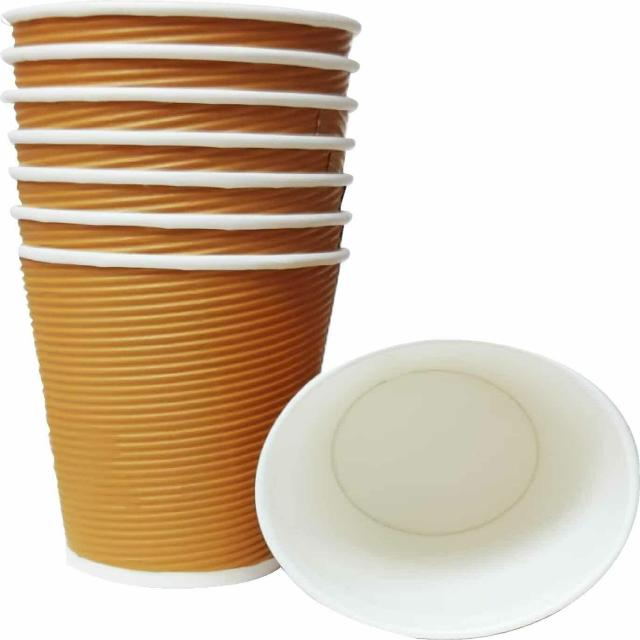PaperCardboard: (12, 0, 355, 586), (259, 341, 640, 640)
